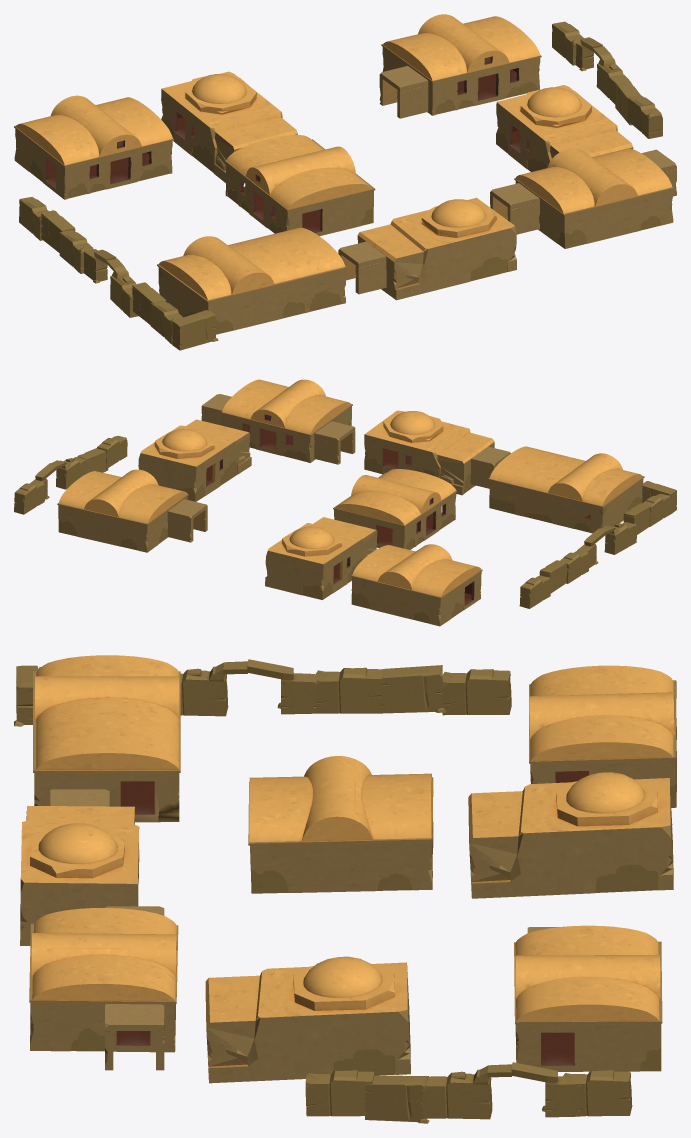
File: Tunisia.fbx
The picture shows the model from 3 angles, top to bottom: view 1: azimuth 30°, elevation 25°; view 2: azimuth 150°, elevation 25°; view 3: azimuth 270°, elevation 25°; orthographic projection. The views are drawn at different scales.
Visible parts, largest first — view 1: Tunisia_House_A, Tunisia_House_B.002, Tunisia_House_B, Tunisia_House_B.001, Tunisia_House_B.003, Tunisia_House_C.002, Tunisia_House_C.001, Tunisia_House_C, Tunisia_Tunnel.003, Tunisia_Tunnel.002, Tunisia_Arc, Tunisia_Tunnel.001 (+11 smaller); view 2: Tunisia_House_A, Tunisia_House_B.002, Tunisia_House_B.003, Tunisia_House_B.001, Tunisia_House_B, Tunisia_House_C.002, Tunisia_House_C.001, Tunisia_House_C, Tunisia_Tunnel.001, Tunisia_Tunnel.003, Tunisia_Arc, Tunisia_Arc.001 (+11 smaller); view 3: Tunisia_House_C.001, Tunisia_House_B, Tunisia_House_C, Tunisia_House_A, Tunisia_House_B.003, Tunisia_House_B.001, Tunisia_House_B.002, Tunisia_House_C.002, Tunisia_Arc.001, Tunisia_Arc, Tunisia_Wall_B.001, Tunisia_Wall_B (+7 smaller).
Boxes of the visible parts, <box> form: Tunisia_House_A: <box>157,227,347,334</box>; Tunisia_House_B.002: <box>14,95,173,199</box>; Tunisia_House_B: <box>224,135,375,236</box>; Tunisia_House_B.001: <box>514,148,674,248</box>; Tunisia_House_B.003: <box>381,14,541,115</box>; Tunisia_House_C.002: <box>357,197,516,300</box>; Tunisia_House_C.001: <box>161,71,297,183</box>; Tunisia_House_C: <box>496,85,633,171</box>; Tunisia_Tunnel.003: <box>379,66,428,118</box>; Tunisia_Tunnel.002: <box>338,241,386,294</box>; Tunisia_Arc: <box>84,249,138,317</box>; Tunisia_Tunnel.001: <box>490,183,539,234</box>; Tunisia_House_A: <box>488,446,644,533</box>; Tunisia_House_B.002: <box>351,544,482,626</box>; Tunisia_House_B.003: <box>57,469,188,552</box>; Tunisia_House_B.001: <box>221,379,352,462</box>; Tunisia_House_B: <box>333,469,457,549</box>; Tunisia_House_C.002: <box>364,410,494,495</box>; Tunisia_House_C.001: <box>265,517,377,599</box>; Tunisia_House_C: <box>138,419,251,501</box>; Tunisia_Tunnel.001: <box>314,421,355,464</box>; Tunisia_Tunnel.003: <box>167,499,207,542</box>; Tunisia_Arc: <box>577,522,636,568</box>; Tunisia_Arc.001: <box>31,456,87,499</box>; Tunisia_House_C.001: <box>468,772,673,898</box>; Tunisia_House_B: <box>248,756,433,893</box>; Tunisia_House_C: <box>205,956,410,1083</box>; Tunisia_House_A: <box>33,655,180,822</box>; Tunisia_House_B.003: <box>514,925,662,1071</box>; Tunisia_House_B.001: <box>29,908,178,1052</box>; Tunisia_House_B.002: <box>529,665,676,807</box>; Tunisia_House_C.002: <box>20,805,139,945</box>; Tunisia_Arc.001: <box>422,1062,580,1119</box>; Tunisia_Arc: <box>180,659,316,716</box>; Tunisia_Wall_B.001: <box>441,669,511,715</box>; Tunisia_Wall_B: <box>315,667,382,713</box>.
Size of the model in its own units: 5446 by 644 by 3595.
